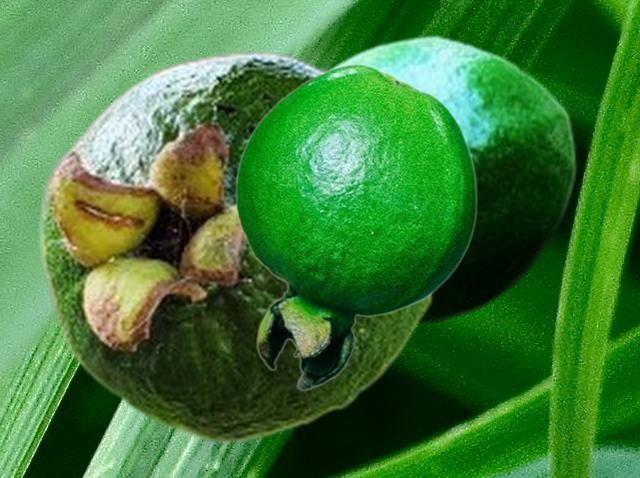guava: (37, 50, 438, 444), (234, 63, 477, 390), (325, 33, 577, 328)
